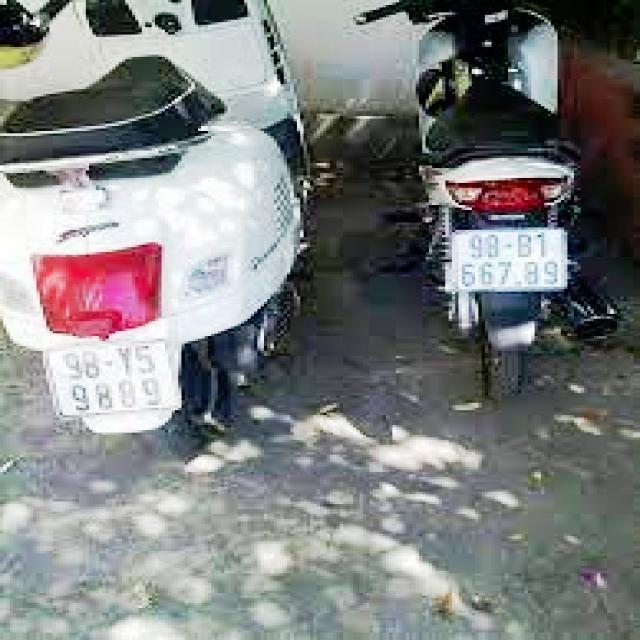license_plate: (44, 340, 178, 417), (460, 230, 566, 293)
